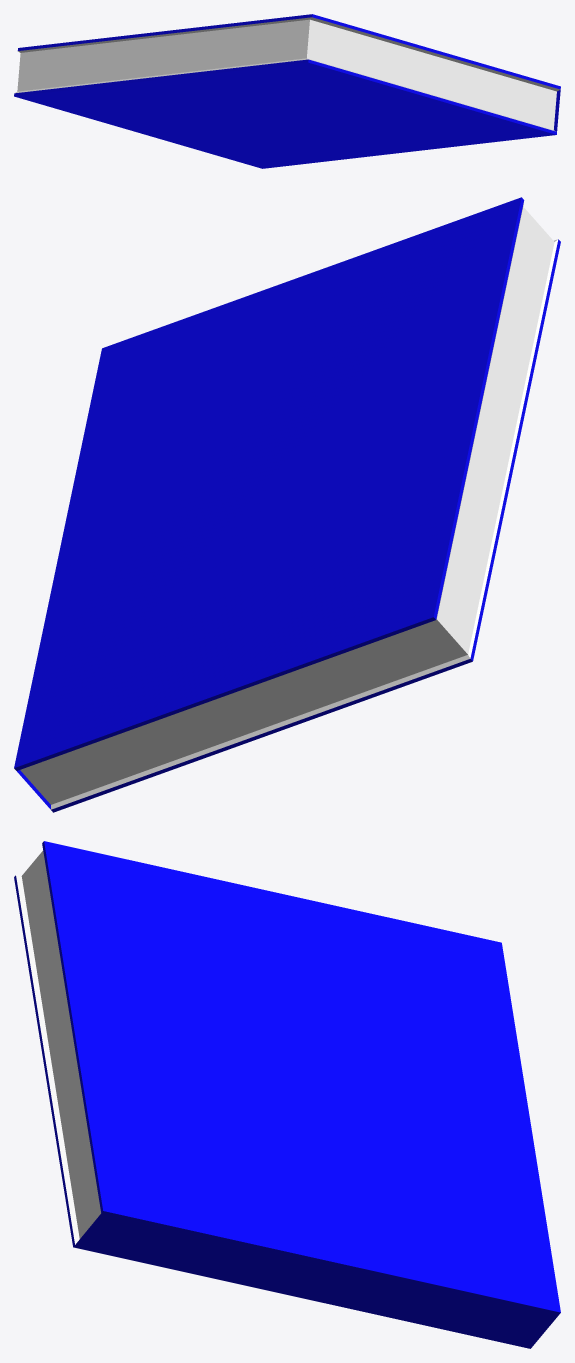
Rendered from book.glb.
3 views of the same model, one above another, from view 1: azimuth 30°, elevation 25°; view 2: azimuth 150°, elevation 25°; view 3: azimuth 270°, elevation 25° (orthographic). The views are drawn at different scales.
Parts seen in each view (by area): view 1: Cube.002, Cube; view 2: Cube.002, Cube; view 3: Cube.002, Cube.
Part boxes in pixels (<box>): Cube.002: <box>14,14,560,168</box>; Cube: <box>15,17,560,131</box>; Cube.002: <box>14,197,560,812</box>; Cube: <box>20,202,558,809</box>; Cube.002: <box>14,841,560,1348</box>; Cube: <box>16,850,100,1244</box>.
Size of the model in its own units: 0.5356 by 0.4151 by 0.4892.
